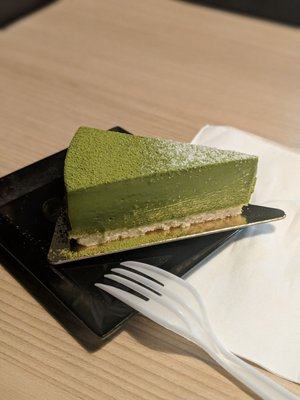burger: (93, 202, 293, 400), (95, 259, 299, 400)
